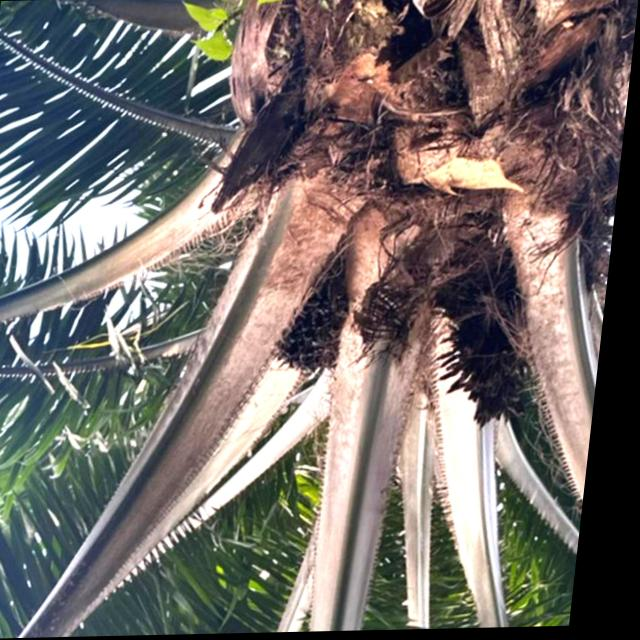unripe: (275, 274, 363, 389)
